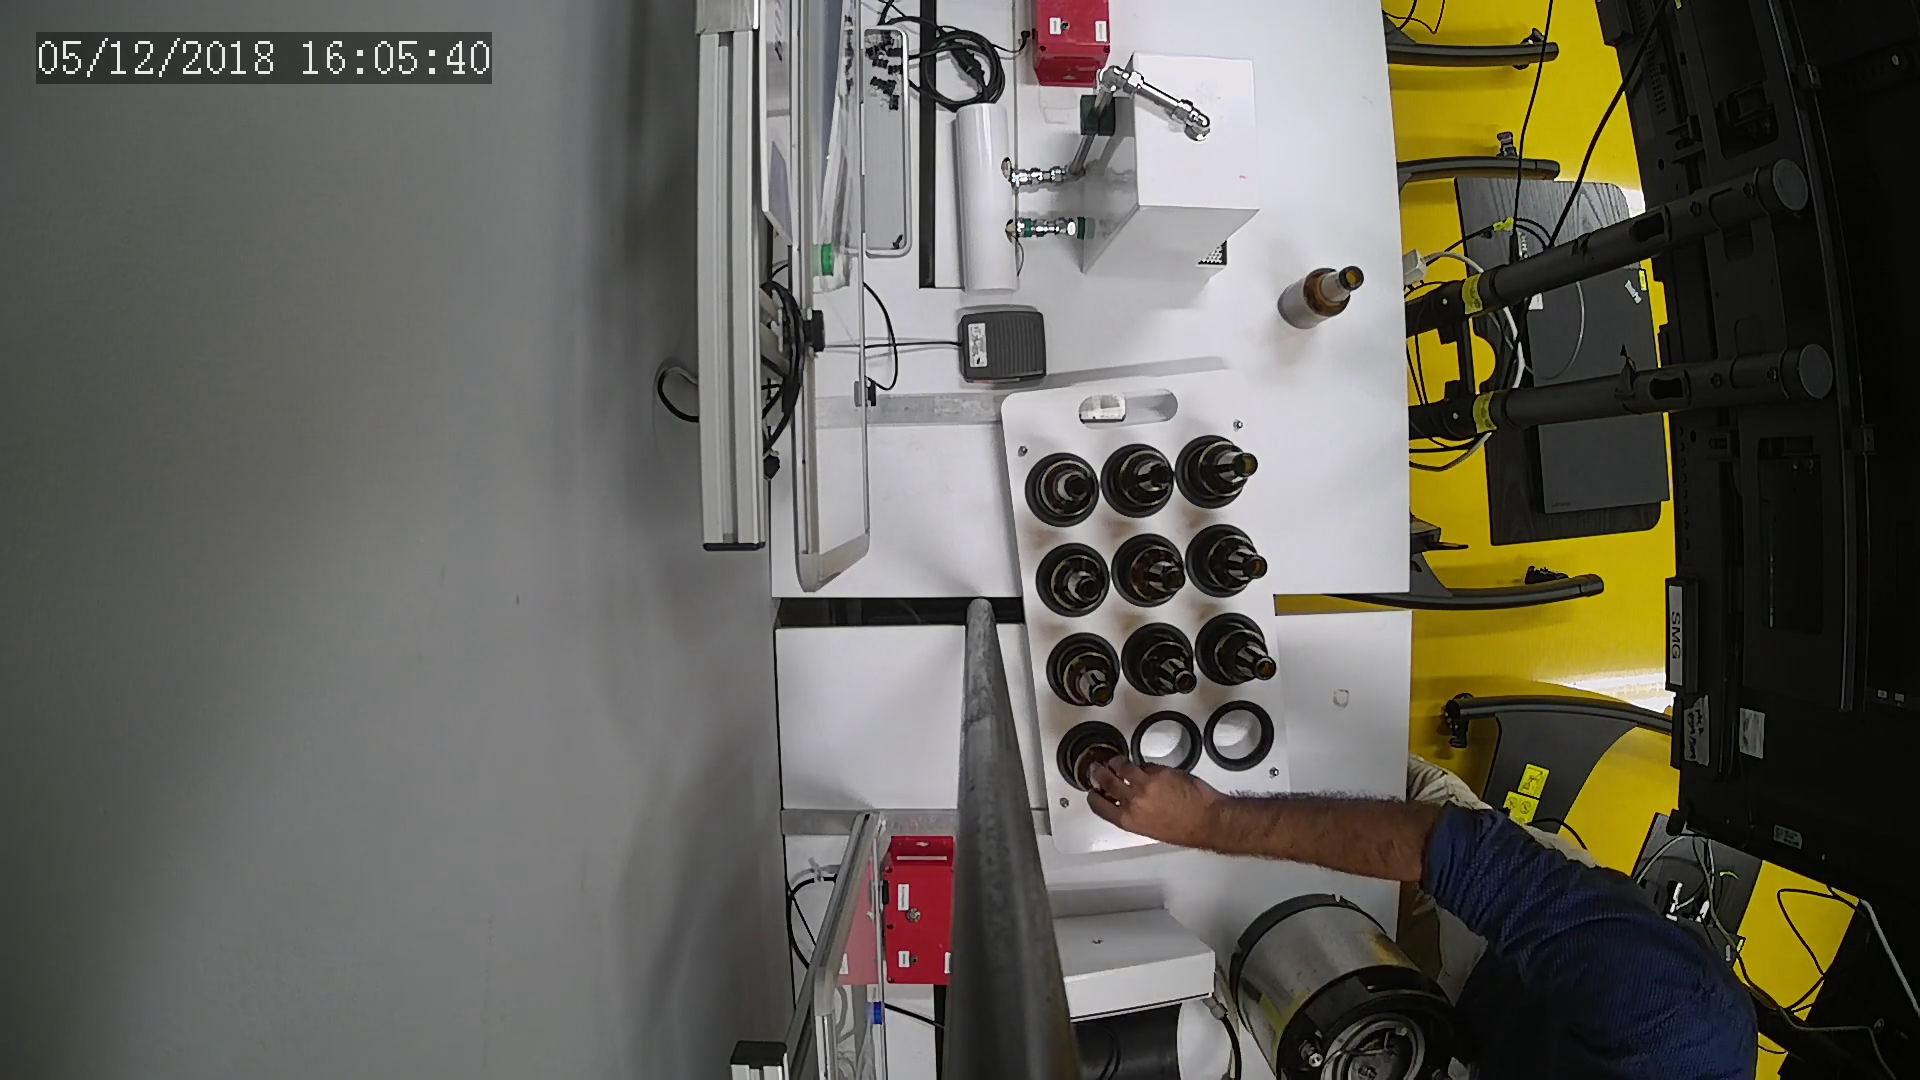filled_bottle: (1170, 430, 1270, 516), (1199, 609, 1284, 702), (1185, 522, 1279, 607), (1040, 630, 1126, 720), (1029, 543, 1118, 628), (1106, 534, 1193, 618), (1025, 451, 1106, 530), (1106, 438, 1179, 526), (1127, 624, 1204, 707)
trolley: (997, 361, 1298, 866)
unfilled_bottle: (1278, 261, 1374, 340)
